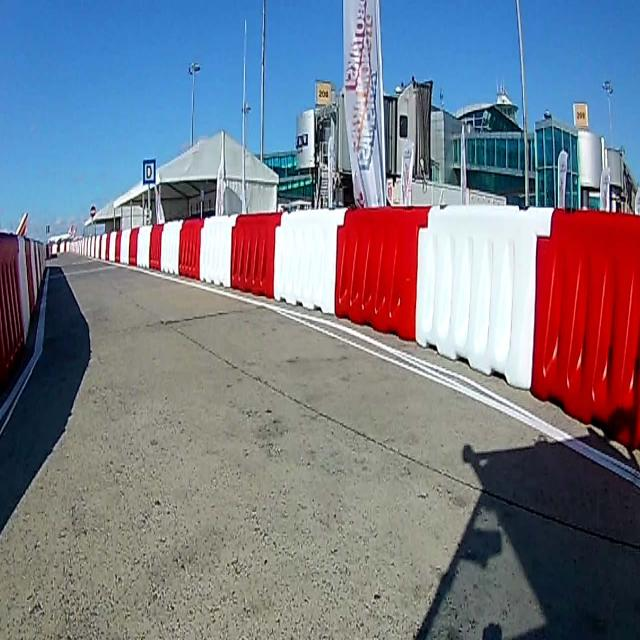durak: (144, 158, 156, 183)
girisyok: (90, 206, 96, 218)
